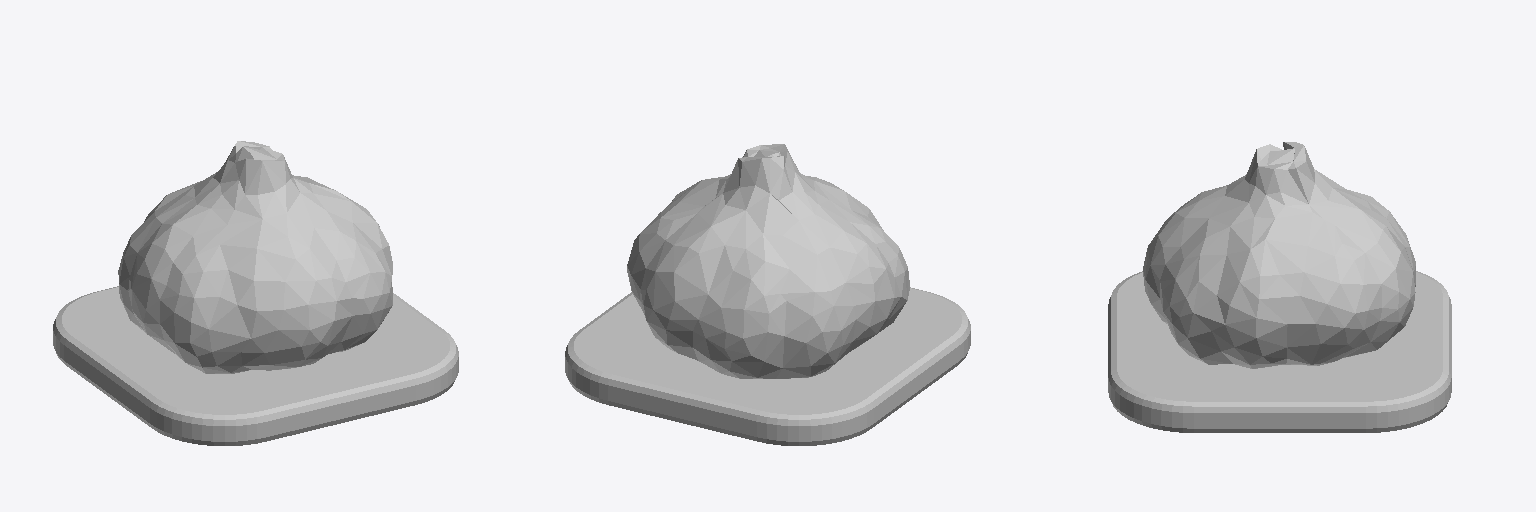
File: Garlic.obj
The picture shows the model from 3 angles: view 1: azimuth 30°, elevation 25°; view 2: azimuth 150°, elevation 25°; view 3: azimuth 270°, elevation 25°; orthographic projection.
Parts seen in each view (by area): view 1: GarlicAsset Garlic, Garlic cardTemplate; view 2: GarlicAsset Garlic, Garlic cardTemplate; view 3: GarlicAsset Garlic, Garlic cardTemplate.
Boxes of the visible parts, <box> form: GarlicAsset Garlic: <box>118,141,392,373</box>; Garlic cardTemplate: <box>53,286,458,445</box>; GarlicAsset Garlic: <box>627,144,909,378</box>; Garlic cardTemplate: <box>565,287,970,445</box>; GarlicAsset Garlic: <box>1143,142,1415,368</box>; Garlic cardTemplate: <box>1108,271,1451,432</box>.
Bounding box in the file's own units: 6 × 4.16 × 6.